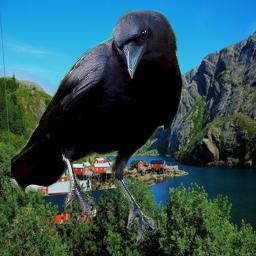Crow: (11, 10, 183, 245)
